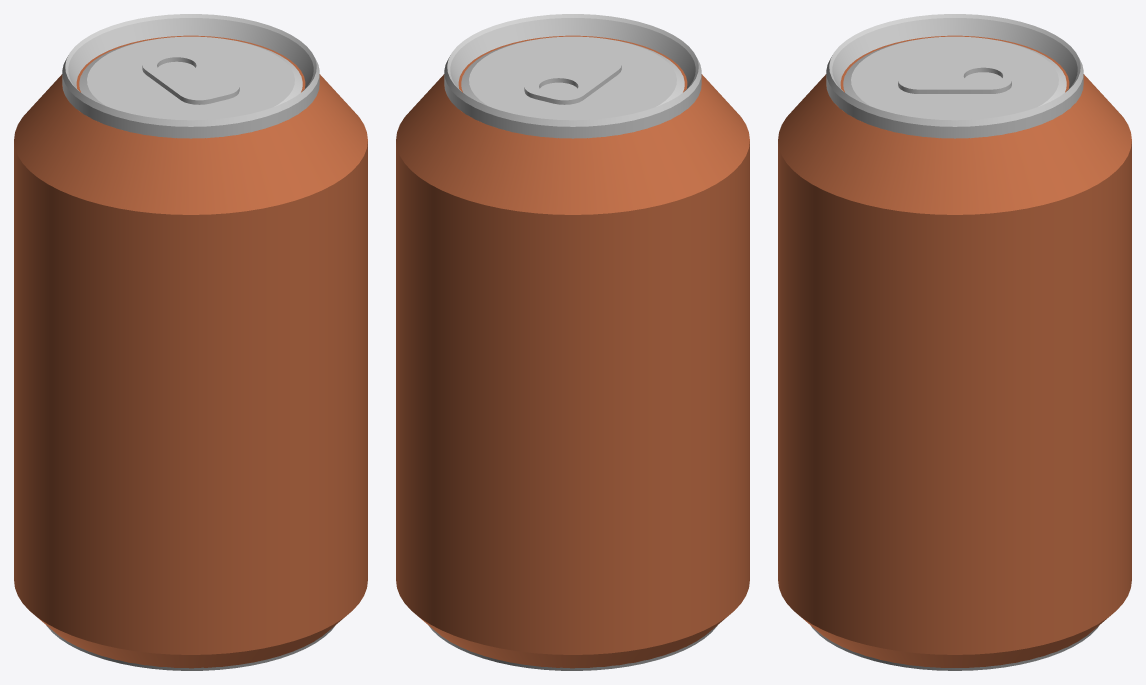
The picture shows the model from 3 angles, left to right: view 1: azimuth 30°, elevation 25°; view 2: azimuth 150°, elevation 25°; view 3: azimuth 270°, elevation 25°; orthographic projection.
Visible parts, largest first — view 1: can; view 2: can; view 3: can.
Boxes of the visible parts, <box> form: can: <box>14,14,367,670</box>; can: <box>396,14,749,670</box>; can: <box>778,14,1131,670</box>.
Bounding box in the file's own units: 0.0714 × 0.1203 × 0.0714.
